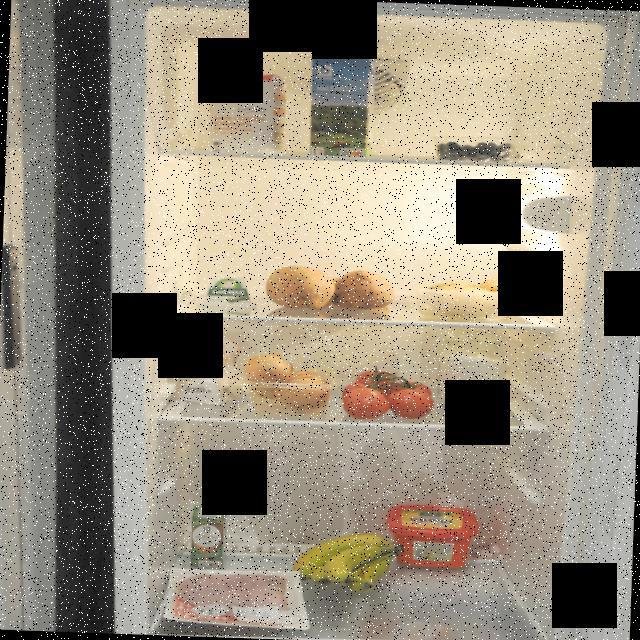Carne cerdo: (163, 566, 313, 631)
Cebolla: (242, 350, 340, 418)
Leche: (302, 44, 376, 166)
Mantequilla: (381, 502, 481, 570)
Patata: (413, 272, 523, 318)
Plátano: (289, 531, 405, 596)
Queso: (198, 272, 258, 309)
Tomate: (338, 365, 438, 423)
blueberries: (428, 134, 526, 162)
corn: (452, 379, 504, 423)
flour: (180, 328, 253, 410)
heavy_cream: (188, 504, 227, 568)
sugar: (205, 70, 288, 155), (436, 324, 508, 411)
sweet_potato: (262, 260, 396, 318)
